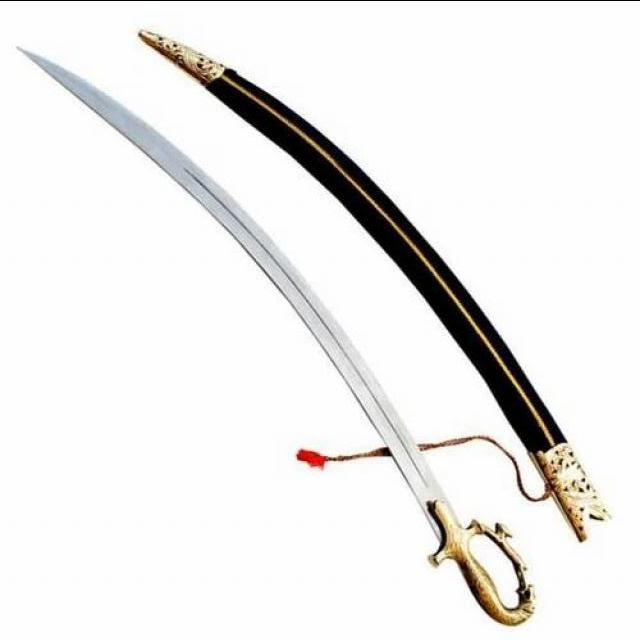cutlass: (8, 39, 557, 638)
scabbard: (140, 27, 626, 561)
